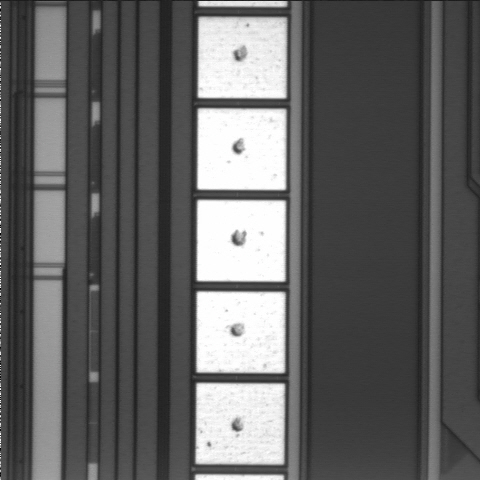pad: (197, 108, 286, 190), (197, 200, 286, 282), (198, 17, 287, 98), (196, 383, 285, 464), (197, 292, 285, 373)
